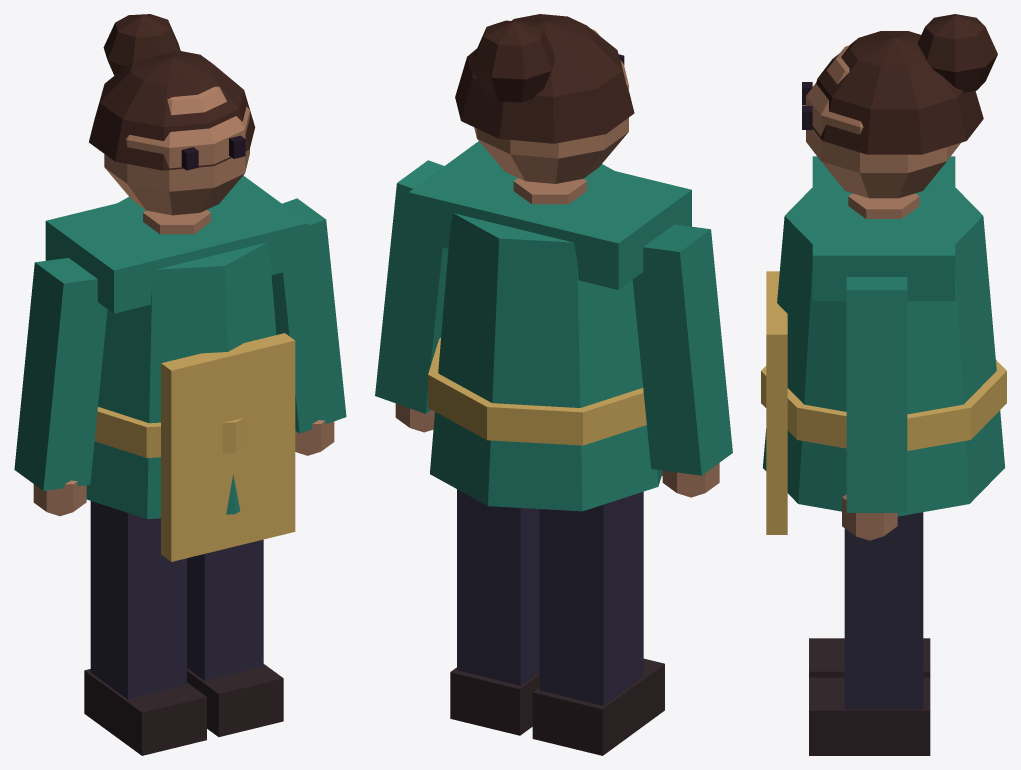
File: person_tova.gltf
The picture shows the model from 3 angles, left to right: view 1: azimuth 30°, elevation 25°; view 2: azimuth 150°, elevation 25°; view 3: azimuth 270°, elevation 25°; orthographic projection. The views are drawn at different scales.
Visible parts, largest first — view 1: body, face; view 2: body, face; view 3: body, face.
Part boxes in pixels (x1,y1,x2,y2): body: (14, 175, 346, 755); face: (89, 14, 255, 215); body: (375, 141, 732, 755); face: (455, 14, 634, 183); body: (761, 156, 1006, 755); face: (802, 14, 997, 198).
Bounding box in the file's own units: 1.03 × 2.18 × 0.69.
